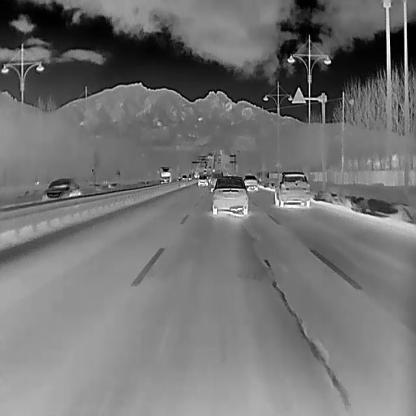car: (211, 175, 248, 215), (274, 170, 310, 207), (41, 178, 81, 199), (209, 169, 222, 191), (243, 173, 258, 191), (159, 165, 172, 183), (198, 174, 208, 187), (179, 173, 187, 180), (192, 170, 199, 178), (202, 168, 206, 174)
